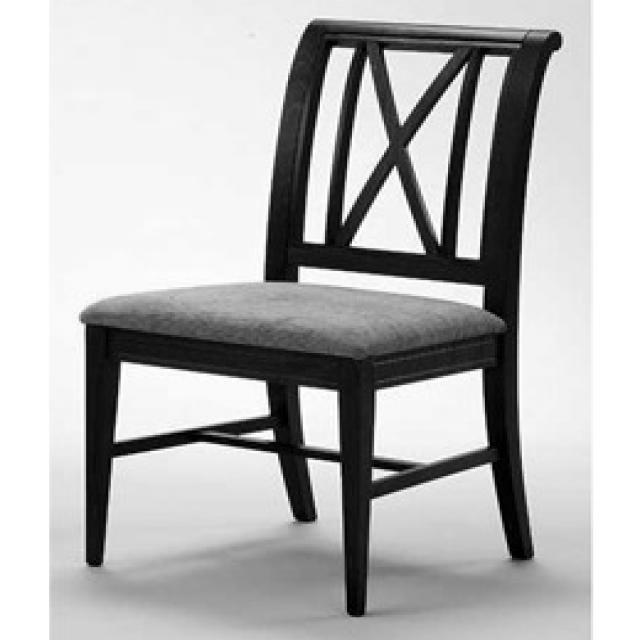chair: (78, 17, 568, 615)
